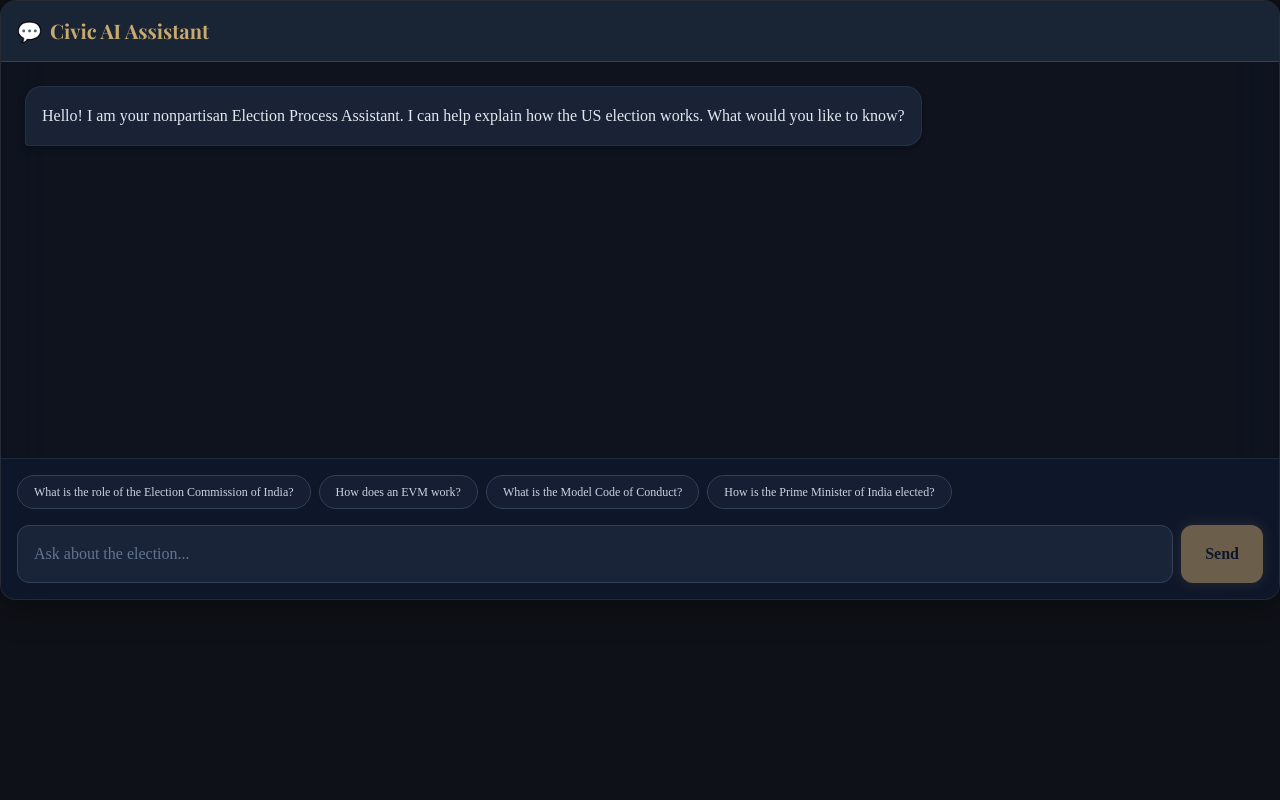
Chat Component › displays a loading indicator while waiting for response
Type "Test loading" into the field with placeholder "Ask about the election..." at (595, 554), box [17,525,1173,583]
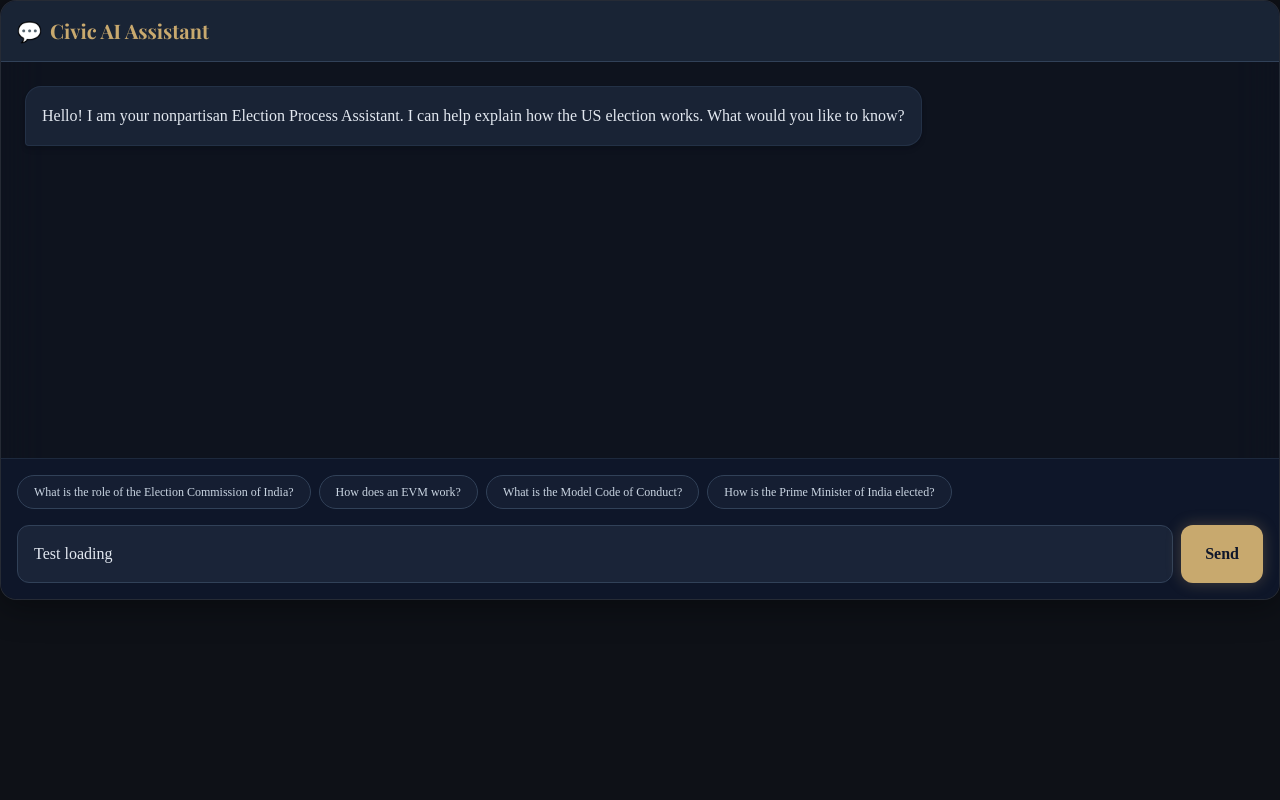
Press Enter in the field with placeholder "Ask about the election...", box [17,525,1173,583]
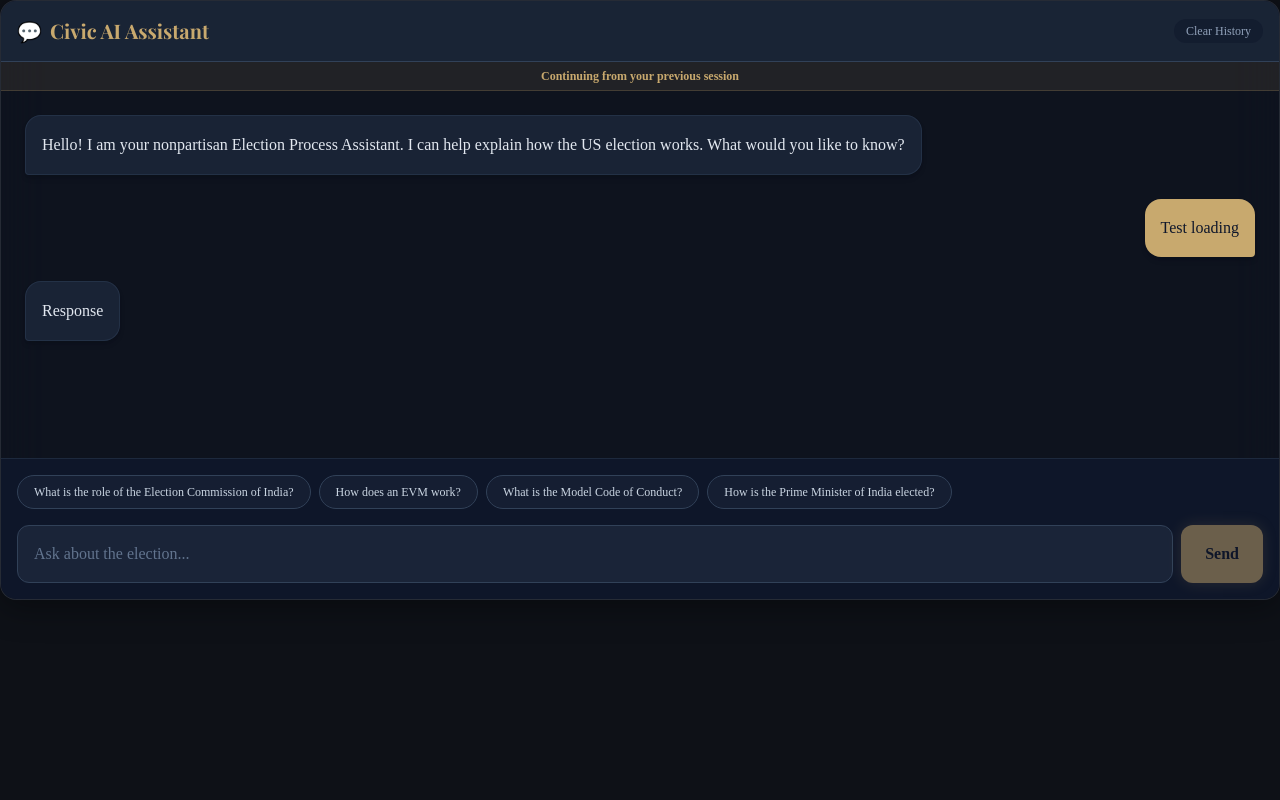
Result: the text "Response" is shown at [25,281,120,341]
